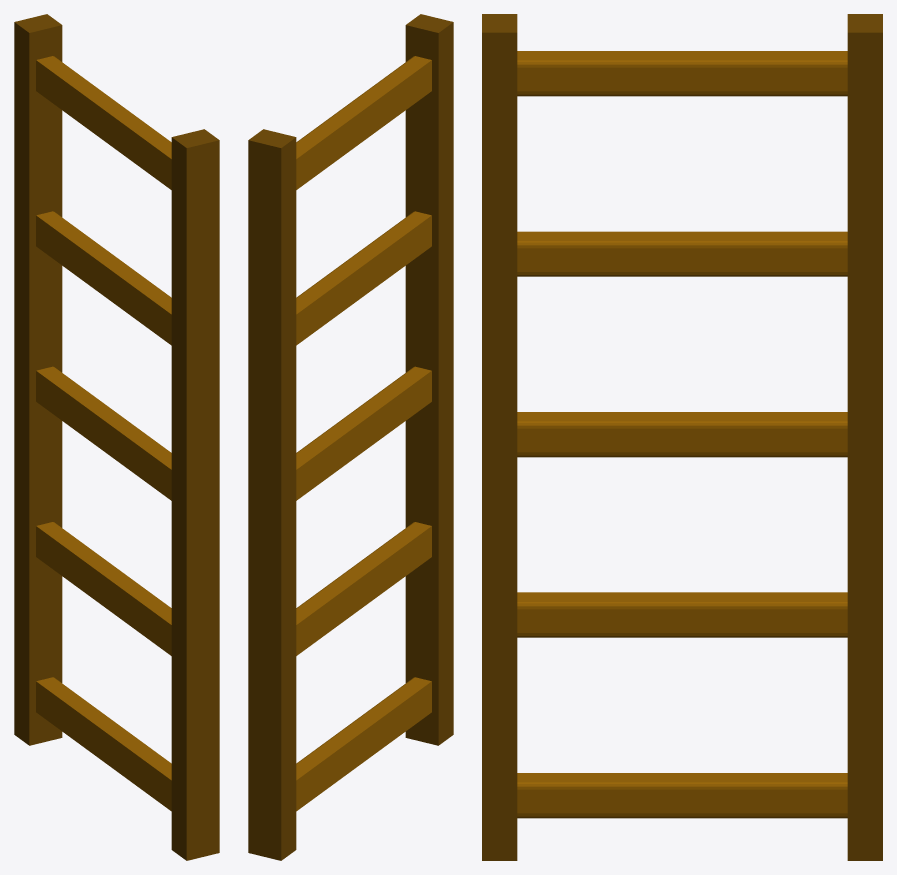
File: VerticalStairs.fbx
The picture shows the model from 3 angles, left to right: view 1: azimuth 30°, elevation 25°; view 2: azimuth 150°, elevation 25°; view 3: azimuth 270°, elevation 25°; orthographic projection. The views are drawn at different scales.
Parts seen in each view (by area): view 1: Cube, Cube.003, Cube.001; view 2: Cube.001, Cube.003, Cube; view 3: Cube.003, Cube, Cube.001.
Boxes of the visible parts, bbox=[...] form: Cube: bbox=[171, 129, 219, 860]; Cube.003: bbox=[36, 56, 171, 811]; Cube.001: bbox=[14, 14, 62, 745]; Cube.001: bbox=[248, 129, 296, 860]; Cube.003: bbox=[296, 56, 431, 811]; Cube: bbox=[405, 14, 453, 745]; Cube.003: bbox=[517, 51, 847, 818]; Cube: bbox=[482, 14, 517, 860]; Cube.001: bbox=[847, 14, 882, 860].
Size of the model in its own units: 9.65 by 200 by 87.68.
